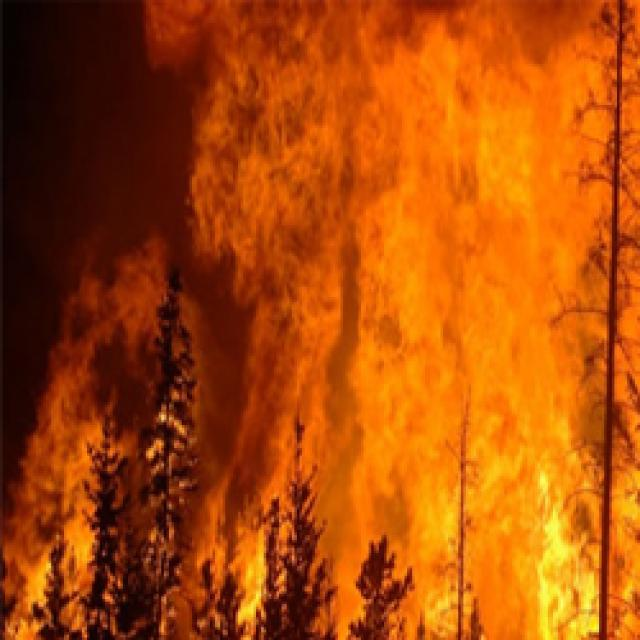Fire: (139, 0, 640, 640), (0, 225, 278, 640), (459, 324, 640, 640)
